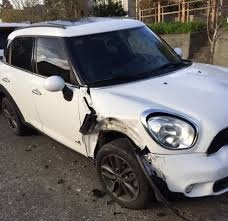Dent: (80, 115, 137, 144), (135, 144, 169, 192)
